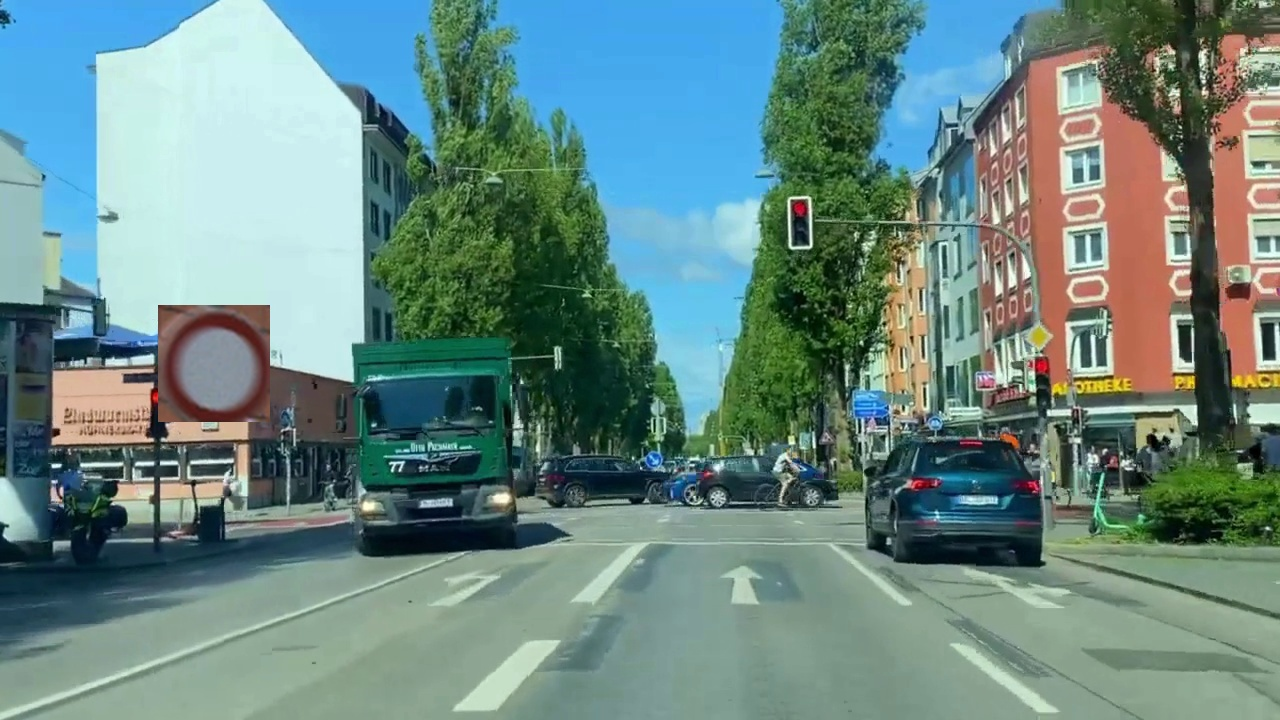No vehicles: (158, 305, 270, 422)
